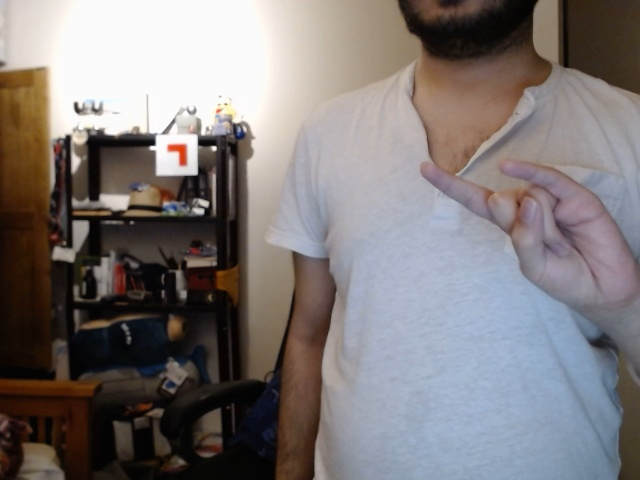Rock on: (411, 153, 639, 331)
